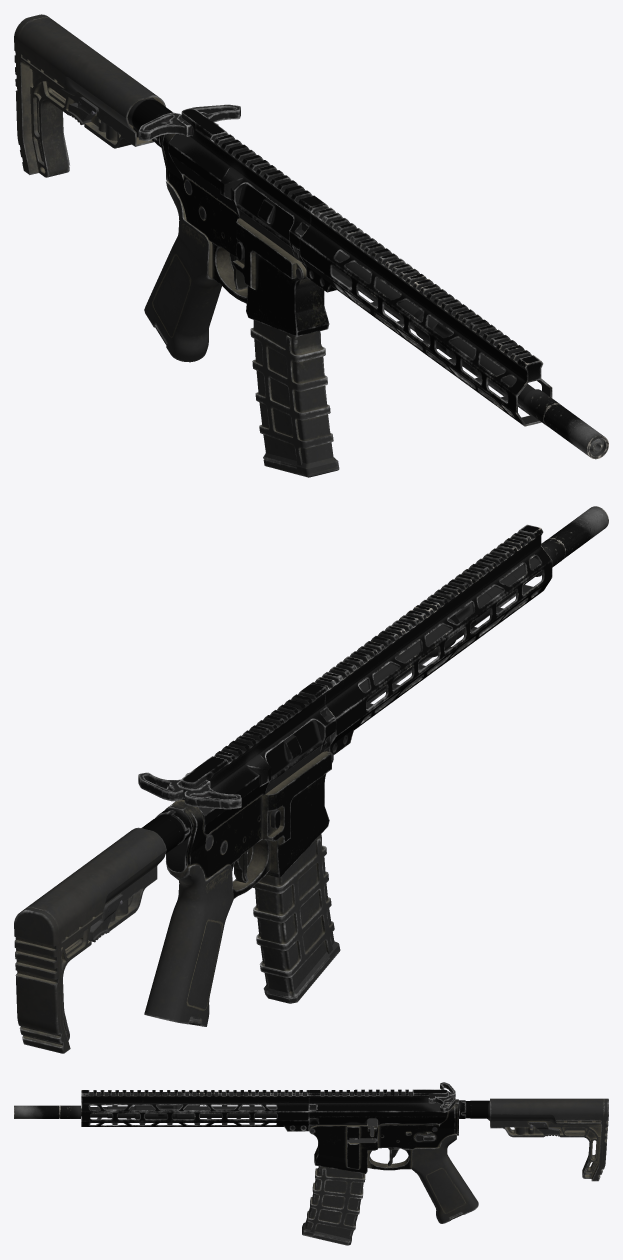
3 views of the same model, one above another, from view 1: azimuth 30°, elevation 25°; view 2: azimuth 150°, elevation 25°; view 3: azimuth 270°, elevation 25° (orthographic). The views are drawn at different scales.
Visible parts, largest first — view 1: M4_rail_low, M4_stock_low, M4_under_low, mag_low, M4_upper_low, M4_grip_low, silencer_low, M4_barrel_low, M4_bm_low, M4_reloader_low, M4_tube_low, stockpart_low; view 2: M4_rail_low, M4_under_low, mag_low, M4_grip_low, M4_stock_low, M4_upper_low, stockpart_low, M4_barrel_low, silencer_low, M4_reloader_low, M4_bm_low, M4_tube_low; view 3: M4_rail_low, M4_under_low, M4_stock_low, M4_upper_low, mag_low, M4_grip_low, M4_barrel_low, silencer_low, M4_tube_low, M4_reloader_low, stockpart_low, tip_da_low.
Part boxes in pixels (x1,y1,x2,y2): M4_rail_low: (300,203,552,426); M4_stock_low: (18,17,165,177); M4_under_low: (161,134,329,336); mag_low: (250,320,338,474); M4_upper_low: (168,108,324,278); M4_grip_low: (144,181,221,362); silencer_low: (523,389,608,459); M4_barrel_low: (332,251,534,405); M4_bm_low: (236,183,297,249); M4_reloader_low: (138,104,240,141); M4_tube_low: (127,97,172,141); stockpart_low: (14,14,50,172); M4_rail_low: (311,524,552,755); M4_under_low: (165,751,332,898); mag_low: (253,834,339,998); M4_grip_low: (144,864,233,1026); M4_stock_low: (26,827,166,1050); M4_upper_low: (174,684,335,835); stockpart_low: (14,907,67,1053); M4_barrel_low: (327,557,540,716); silencer_low: (533,506,608,576); M4_reloader_low: (138,772,241,809); M4_bm_low: (266,719,326,783); M4_tube_low: (141,812,188,853); M4_rail_low: (81,1090,309,1131); M4_under_low: (309,1099,457,1173); M4_stock_low: (490,1098,603,1181); M4_upper_low: (309,1089,447,1128); mag_low: (302,1166,365,1242); M4_grip_low: (412,1134,478,1223); M4_barrel_low: (81,1105,276,1119); silencer_low: (14,1105,80,1118); M4_tube_low: (462,1100,490,1120); M4_reloader_low: (428,1082,455,1112); stockpart_low: (595,1098,608,1181); tip_da_low: (528,1122,559,1136).
Size of the model in its own units: 1.55 by 4.15 by 14.83.
Materials: 2 (2 with a texture image).
